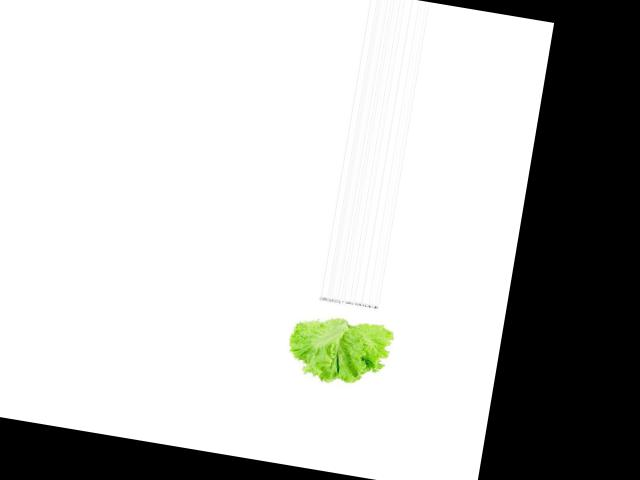lettuce: (281, 297, 398, 393)
